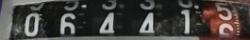digits: (214, 1, 235, 38), (178, 7, 194, 36), (138, 12, 155, 36), (98, 12, 115, 36), (24, 12, 40, 36), (59, 13, 75, 36)
